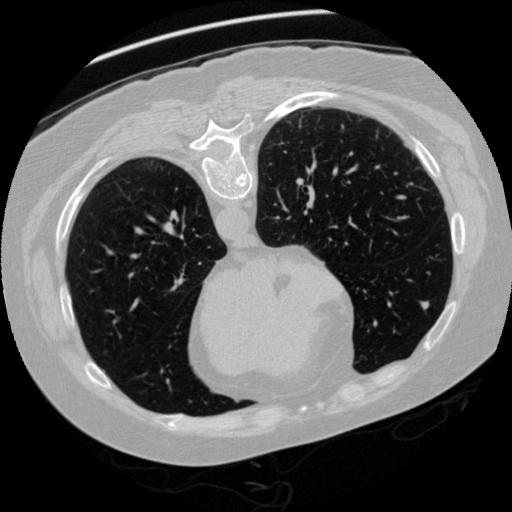nodule: (419, 298, 435, 314)
